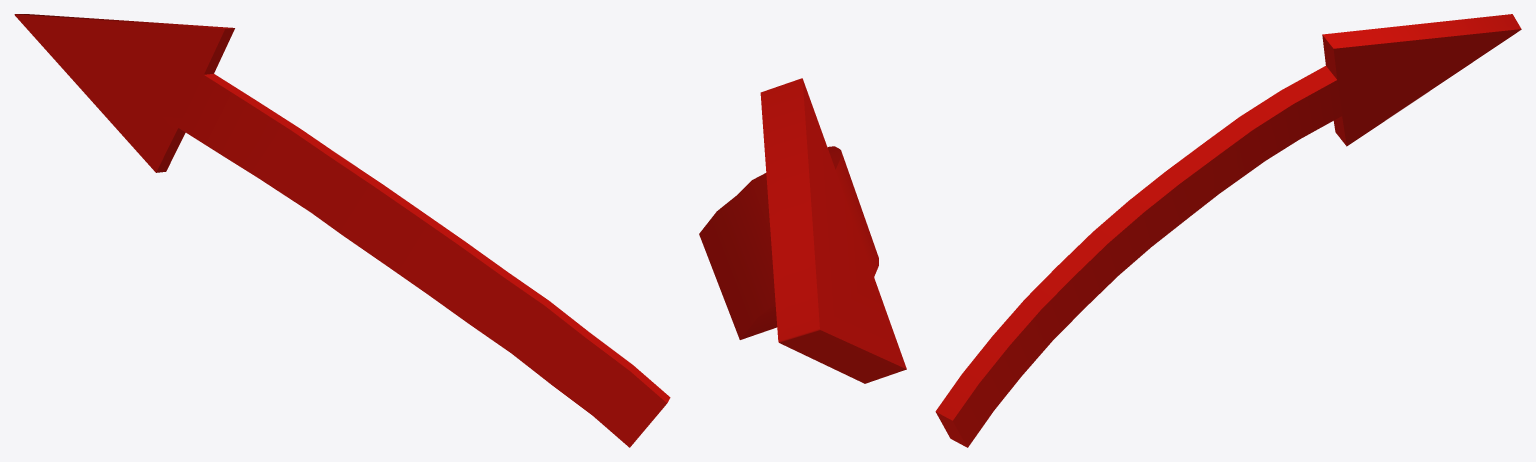
File: Arrow06.fbx
3 views of the same model, side by side, from view 1: azimuth 30°, elevation 25°; view 2: azimuth 150°, elevation 25°; view 3: azimuth 270°, elevation 25° (orthographic). The views are drawn at different scales.
Visible parts, largest first — view 1: Cube.105; view 2: Cube.105; view 3: Cube.105.
Boxes of the visible parts, x1,y1,x2,y2 form: Cube.105: [14, 14, 670, 447]; Cube.105: [699, 78, 906, 383]; Cube.105: [935, 14, 1521, 447].
Bounding box in the file's own units: 2.34 × 2.04 × 3.48.
